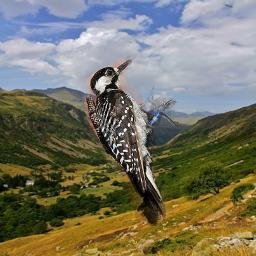Woodpecker: (78, 53, 190, 226)
